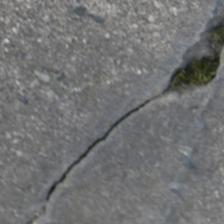Crack: (70, 11, 197, 101), (27, 88, 137, 136)
